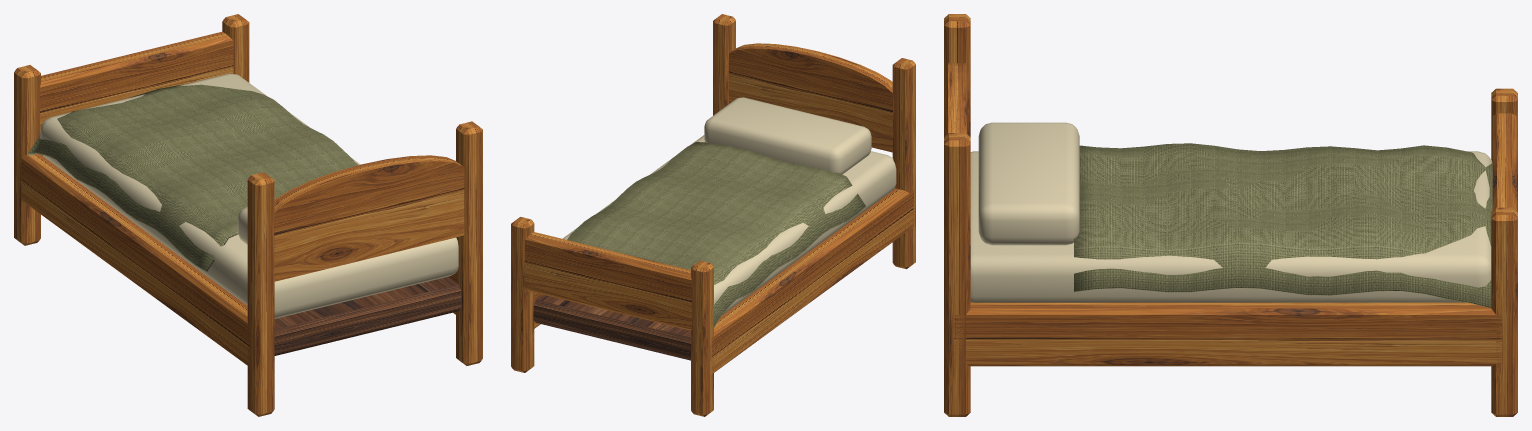
Rendered from InteriorCozy_Bed.fbx.
3 renders of one model, left to right at view 1: azimuth 30°, elevation 25°; view 2: azimuth 150°, elevation 25°; view 3: azimuth 270°, elevation 25°, orthographic. The views are drawn at different scales.
Parts seen in each view (by area): view 1: InteriorCozy_Bed; view 2: InteriorCozy_Bed; view 3: InteriorCozy_Bed.
Part boxes in pixels (x1,y1,x2,y2): InteriorCozy_Bed: (14, 14, 482, 416); InteriorCozy_Bed: (511, 14, 915, 416); InteriorCozy_Bed: (944, 14, 1517, 416).
Size of the model in its own units: 1.16 by 1.15 by 2.16.
